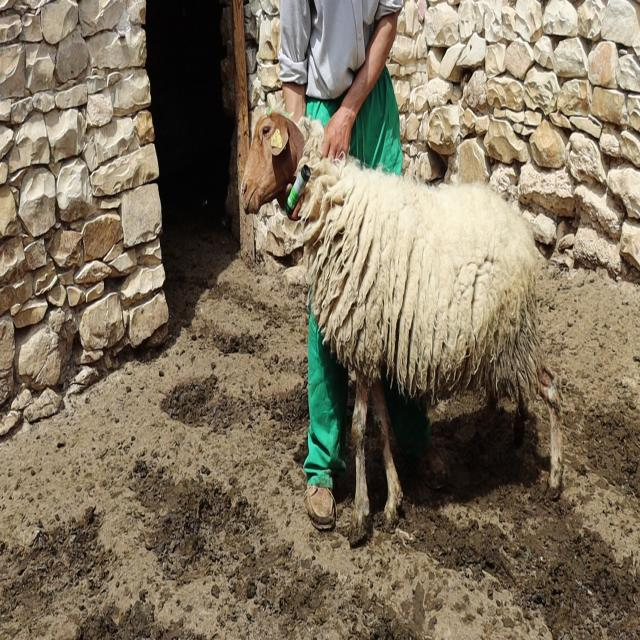Score_3: (241, 112, 562, 543)
